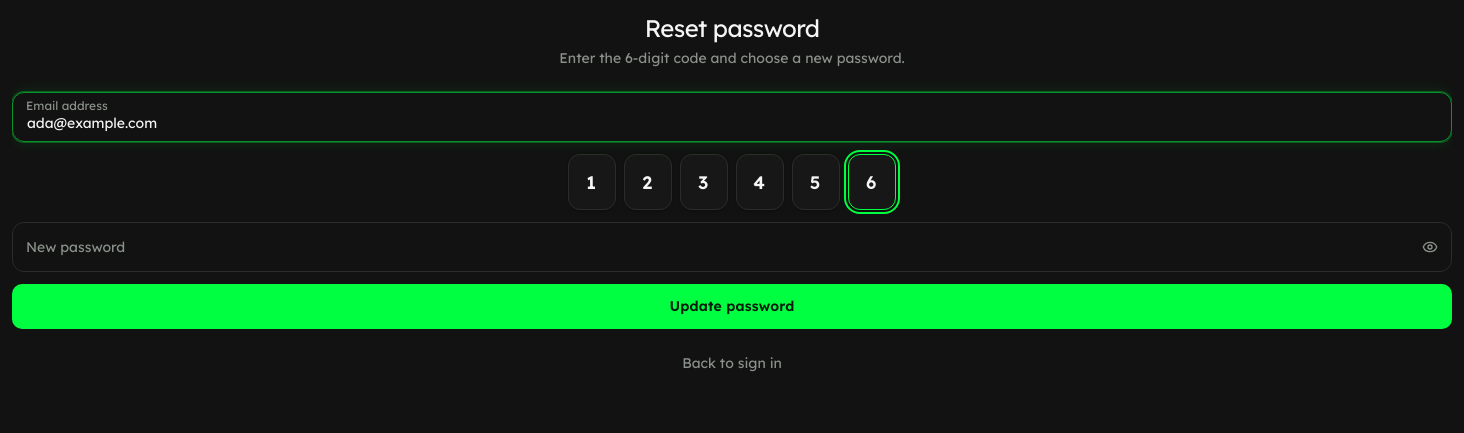
it: ResetPasswordPage › shows the server message when the code is invalid or expired
Type "secret1" into the password field labelled "New password". click: [732, 247]
box: [12,222,1452,272]
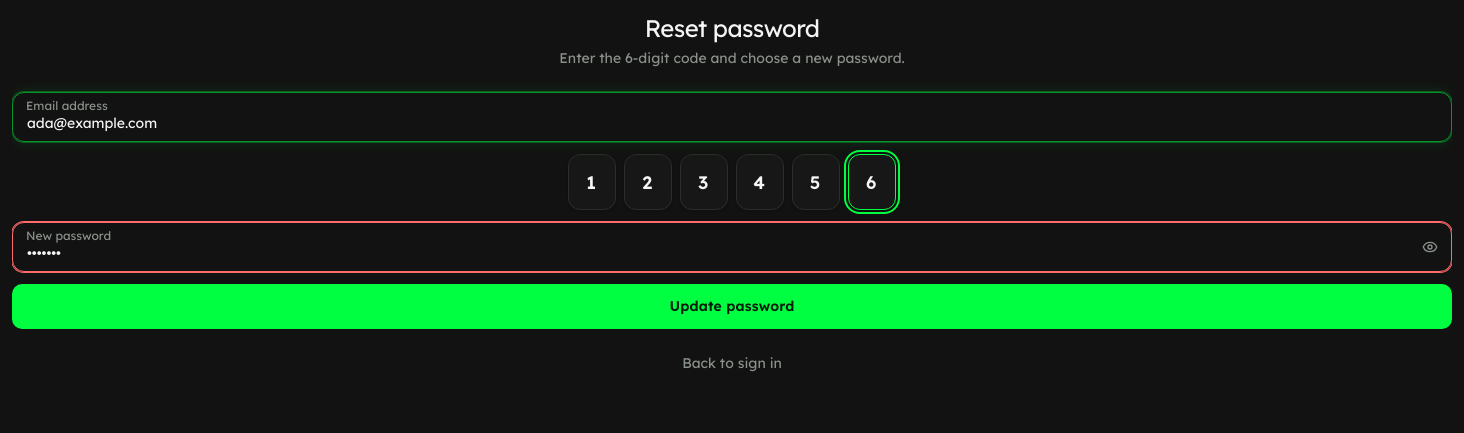
Submit the form named "Reset password", box [12,92,1452,329]
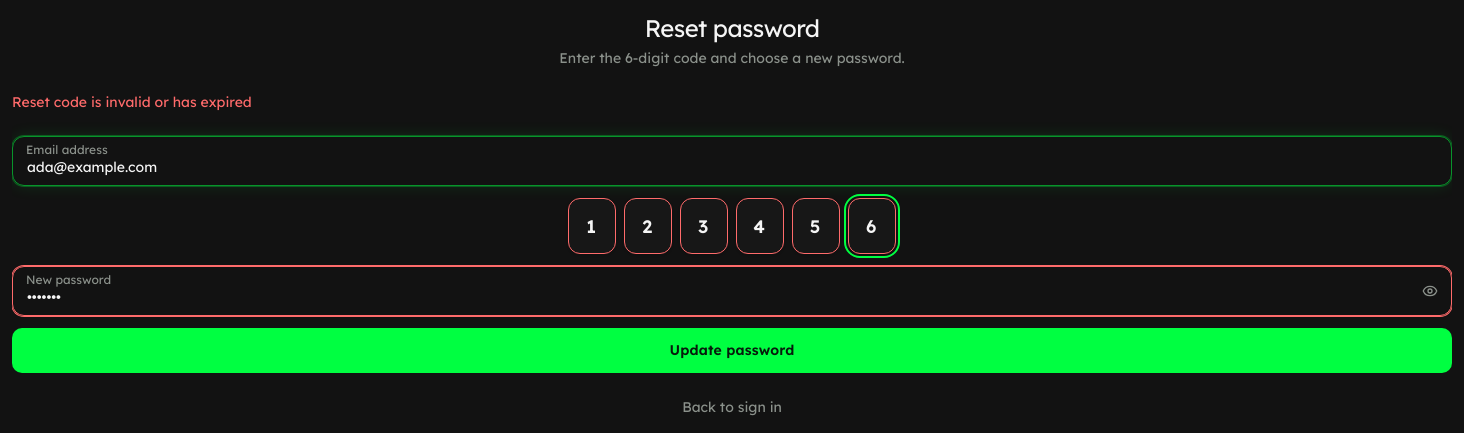
Result: the text "Reset code is invalid or has expired" is shown at [12,93,252,111]
